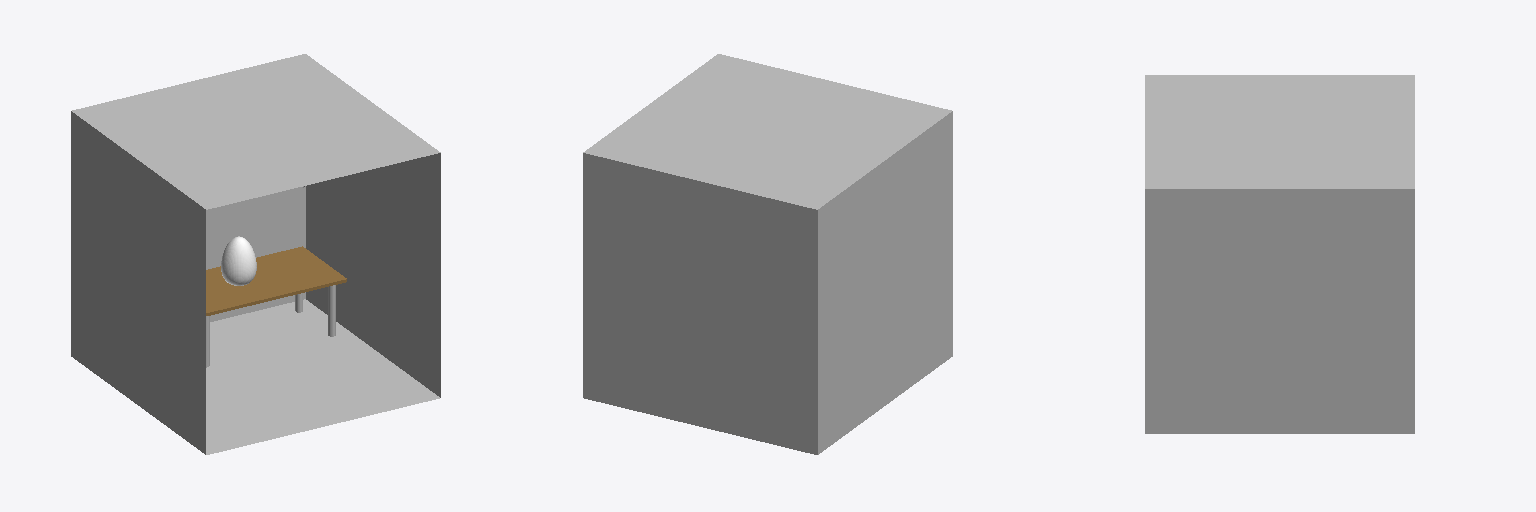
Rendered from bdpt.obj.
The picture shows the model from 3 angles: view 1: azimuth 30°, elevation 25°; view 2: azimuth 150°, elevation 25°; view 3: azimuth 270°, elevation 25°; orthographic projection.
Bounding box in the file's own units: 8 × 8.1 × 8.